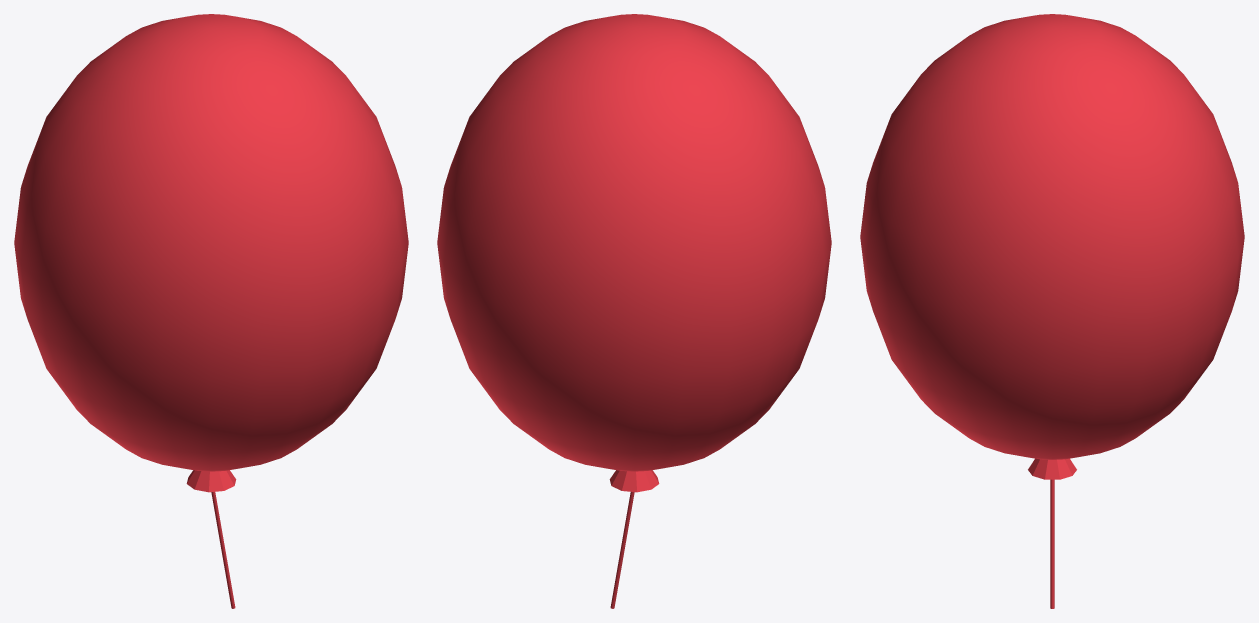
The model's file is balloon_red.glb.
The picture shows the model from 3 angles, left to right: view 1: azimuth 30°, elevation 25°; view 2: azimuth 150°, elevation 25°; view 3: azimuth 270°, elevation 25°; orthographic projection. The views are drawn at different scales.
Visible parts, largest first — view 1: SM_LatexBalloon; view 2: SM_LatexBalloon; view 3: SM_LatexBalloon.
Boxes of the visible parts, left/top/right/bottom form: SM_LatexBalloon: left=14, top=14, right=408, bottom=608; SM_LatexBalloon: left=437, top=14, right=831, bottom=608; SM_LatexBalloon: left=860, top=14, right=1244, bottom=608.
Size of the model in its own units: 0.28 by 0.4583 by 0.28.
